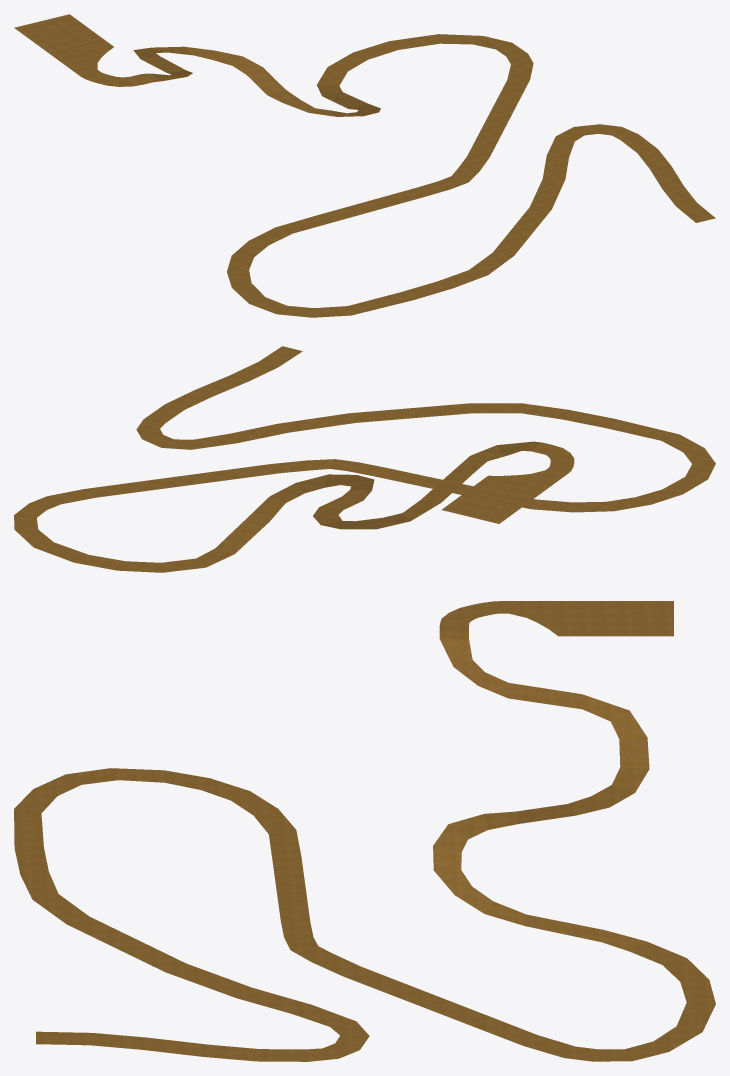
The model's file is road.glb.
The picture shows the model from 3 angles, top to bottom: view 1: azimuth 30°, elevation 25°; view 2: azimuth 150°, elevation 25°; view 3: azimuth 270°, elevation 25°; orthographic projection. The views are drawn at different scales.
Visible parts, largest first — view 1: Strasse; view 2: Strasse; view 3: Strasse.
Part boxes in pixels (x1,y1,x2,y2): Strasse: (14, 14, 715, 317); Strasse: (14, 346, 715, 572); Strasse: (14, 601, 715, 1061).
Size of the model in its own units: 488 by 117 by 476.
1 material, 1 textured.
